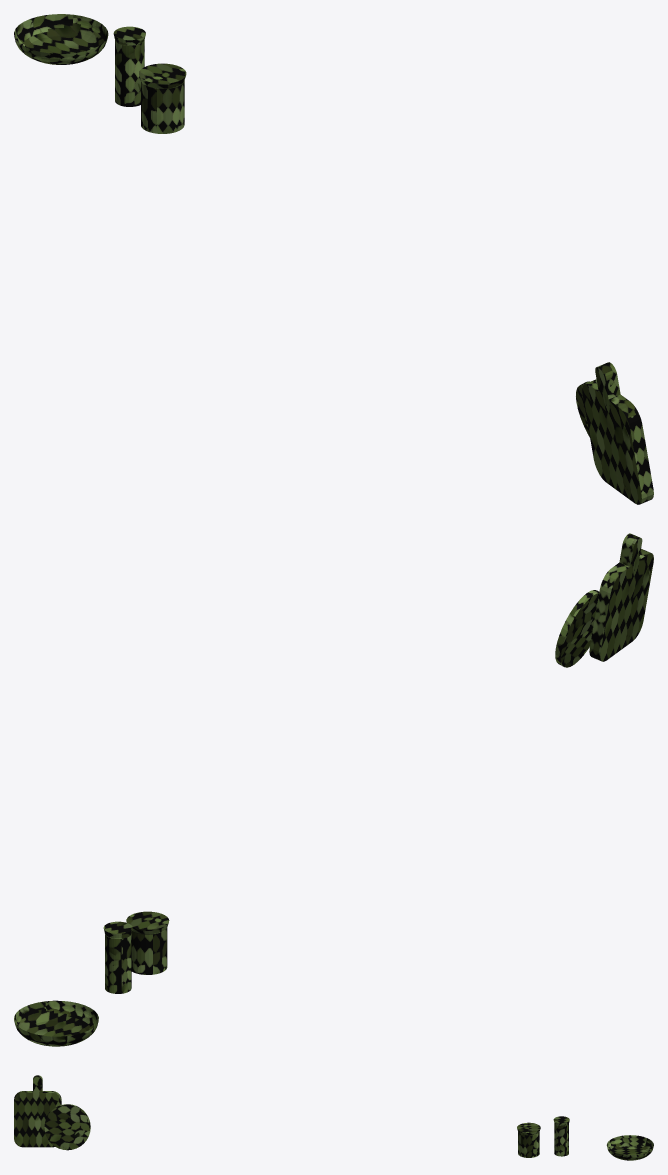
File: modern_scandinavian_kitchen_island_16.obj
3 renders of one model, top to bottom at view 1: azimuth 30°, elevation 25°; view 2: azimuth 150°, elevation 25°; view 3: azimuth 270°, elevation 25°, orthographic. The views are drawn at different scales.
Bounding box in the file's own units: 0.3439 × 0.4535 × 3.98.
